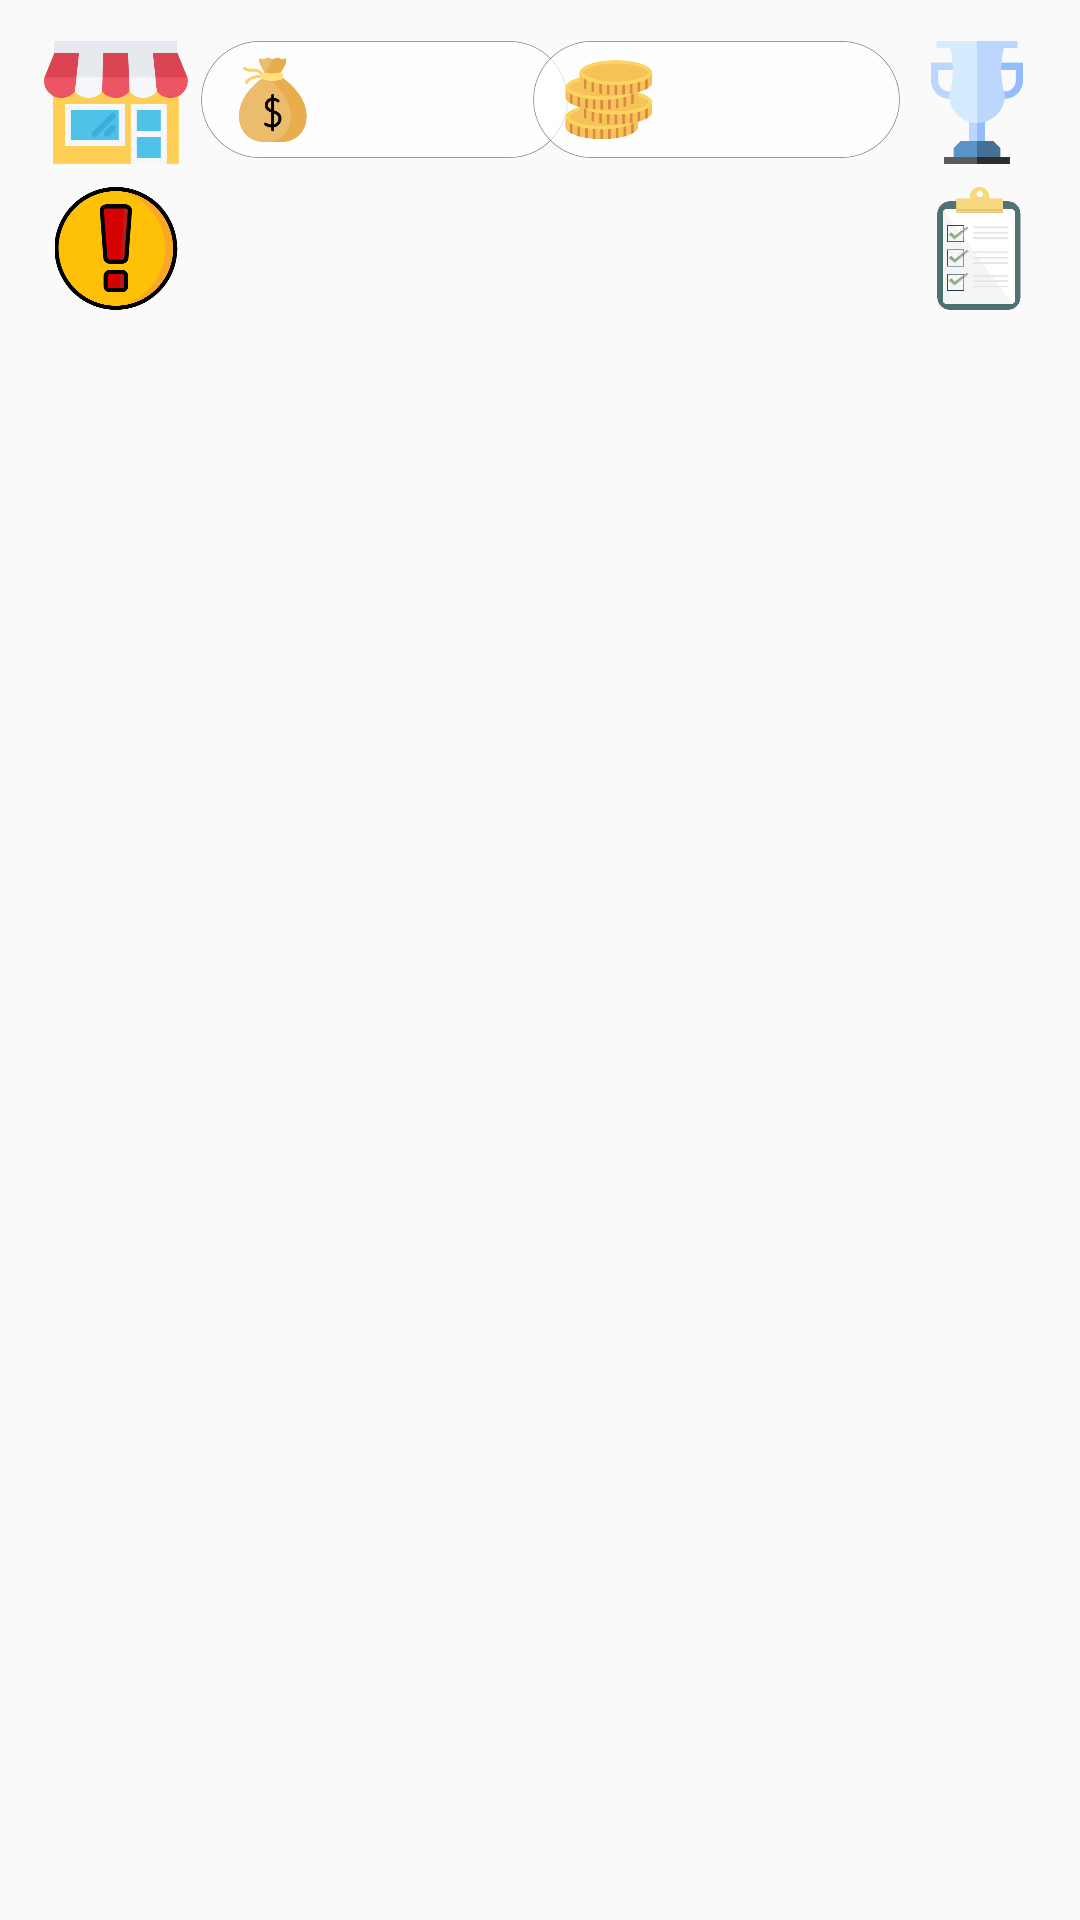

Icons on this 1080px x 1920px Android screen, each with the point to tap as (x=x, y=y):
todo list: (x=979, y=248)
trophy: (x=977, y=102)
